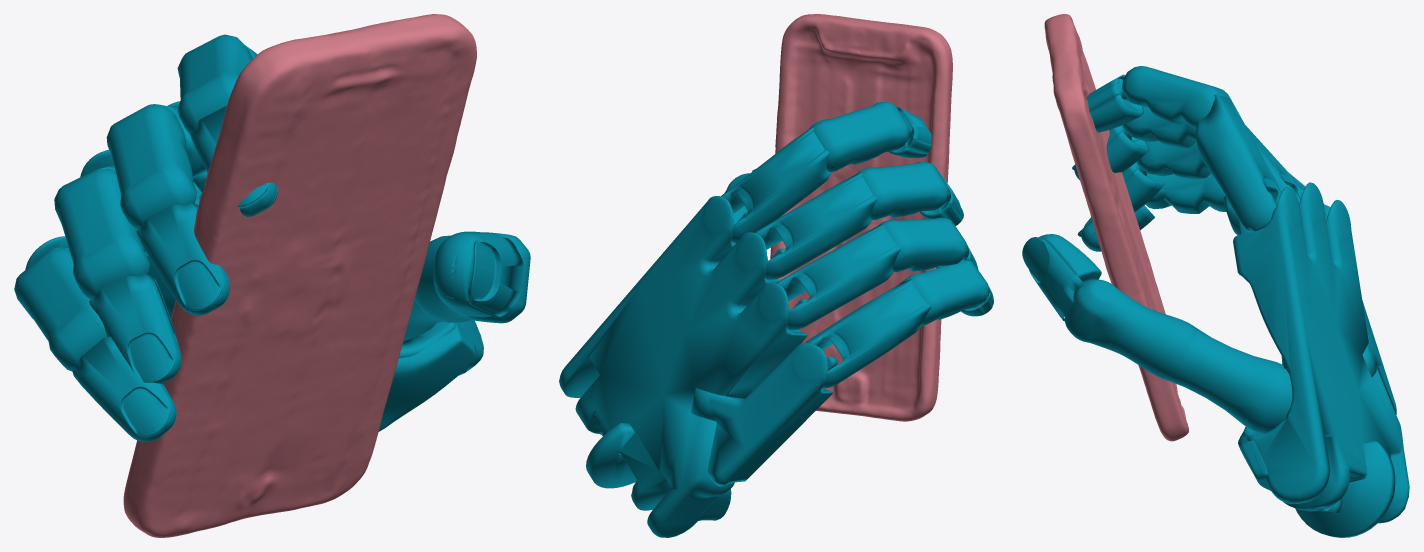
3 renders of one model, left to right at view 1: azimuth 30°, elevation 25°; view 2: azimuth 150°, elevation 25°; view 3: azimuth 270°, elevation 25°, orthographic. The views are drawn at different scales.
Visible parts, largest first — view 1: world; view 2: world; view 3: world.
Boxes of the visible parts, x1,y1,x2,y2 form: world: (14,14,530,537); world: (559,14,993,537); world: (1022,14,1409,537).
Size of the model in its own units: 0.1534 by 0.1771 by 0.1377.
